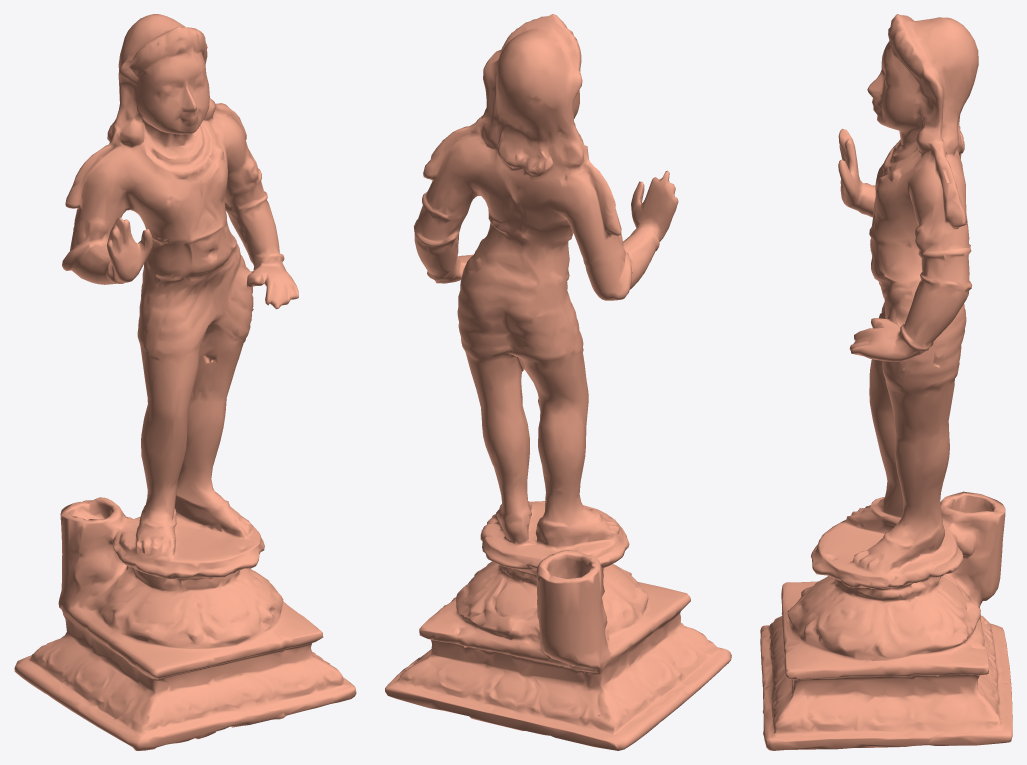
Rendered from Saivam_Balamurugan_05.glb.
The picture shows the model from 3 angles, left to right: view 1: azimuth 30°, elevation 25°; view 2: azimuth 150°, elevation 25°; view 3: azimuth 270°, elevation 25°; orthographic projection. The views are drawn at different scales.
Visible parts, largest first — view 1: Saivam_Balamurugan_05; view 2: Saivam_Balamurugan_05; view 3: Saivam_Balamurugan_05.
Boxes of the visible parts, x1=… form: Saivam_Balamurugan_05: x1=14, y1=14, x2=356, y2=750; Saivam_Balamurugan_05: x1=385, y1=14, x2=731, y2=750; Saivam_Balamurugan_05: x1=760, y1=14, x2=1012, y2=750.
Bounding box in the file's own units: 0.3439 × 0.9107 × 0.3064.
